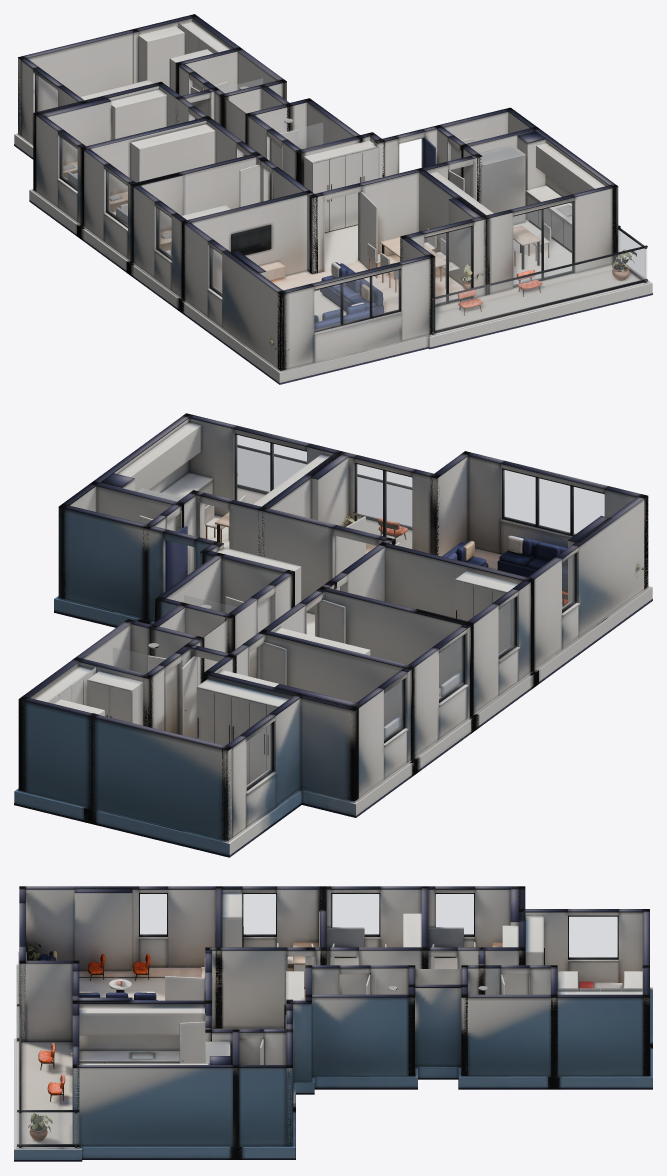
3 views of the same model, one above another, from view 1: azimuth 30°, elevation 25°; view 2: azimuth 150°, elevation 25°; view 3: azimuth 270°, elevation 25° (orthographic). The views are drawn at different scales.
Visible parts, largest first — view 1: plan, railg3_m, glass7_m, glass5_m, glass6_m, glass2_m, glass1_m, railg5_m, sg.001_m, glass0_m, glass3_m; view 2: plan, glass5_m, railg3_m, glass6_m, glass7_m, glass0_m, glass2_m, glass1_m, glass3_m, sg_m; view 3: plan, railg5_m, glass0_m, glass2_m, glass3_m, glass1_m, glass4_m.
Boxes of the visible parts, left/top/right/bottom form: plan: left=14, top=14, right=652, bottom=384; railg3_m: left=435, top=249, right=646, bottom=330; glass7_m: left=513, top=202, right=572, bottom=284; glass5_m: left=314, top=270, right=399, bottom=330; glass6_m: left=424, top=227, right=471, bottom=303; glass2_m: left=107, top=171, right=127, bottom=225; glass1_m: left=61, top=138, right=77, bottom=188; railg5_m: left=618, top=230, right=645, bottom=280; sg.001_m: left=282, top=123, right=322, bottom=148; glass0_m: left=37, top=75, right=57, bottom=111; glass3_m: left=158, top=209, right=171, bottom=256; plan: left=14, top=413, right=652, bottom=857; glass5_m: left=504, top=470, right=604, bottom=534; railg3_m: left=238, top=448, right=411, bottom=526; glass6_m: left=356, top=464, right=411, bottom=548; glass7_m: left=236, top=435, right=306, bottom=503; glass0_m: left=247, top=723, right=271, bottom=787; glass2_m: left=439, top=636, right=462, bottom=699; glass1_m: left=384, top=680, right=402, bottom=740; glass3_m: left=499, top=598, right=514, bottom=655; sg_m: left=113, top=647, right=147, bottom=673; plan: left=14, top=886, right=652, bottom=1161; railg5_m: left=17, top=1112, right=78, bottom=1144; glass0_m: left=569, top=917, right=617, bottom=957; glass2_m: left=332, top=894, right=378, bottom=934; glass3_m: left=243, top=894, right=275, bottom=934; glass1_m: left=436, top=894, right=473, bottom=934; glass4_m: left=140, top=894, right=166, bottom=934.
Size of the model in its own units: 11.47 by 2.62 by 16.69.
2 materials, 1 textured.
